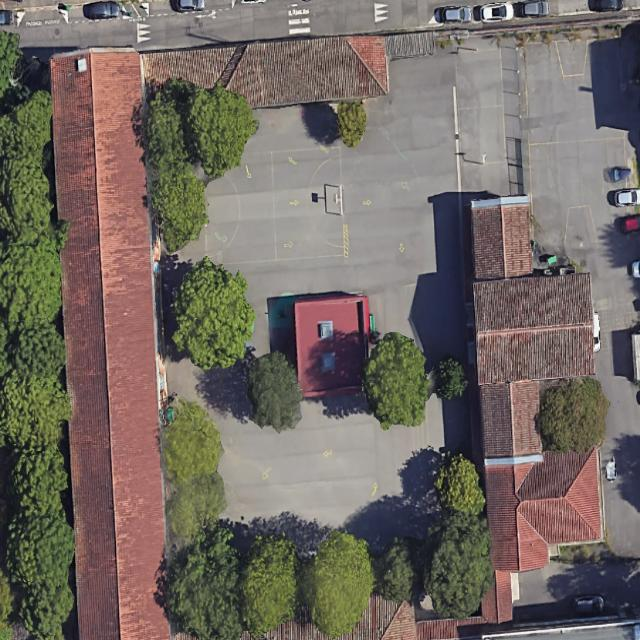immeuble: (37, 45, 182, 640), (140, 32, 389, 114), (484, 449, 602, 572), (472, 273, 595, 383), (481, 380, 541, 459)
